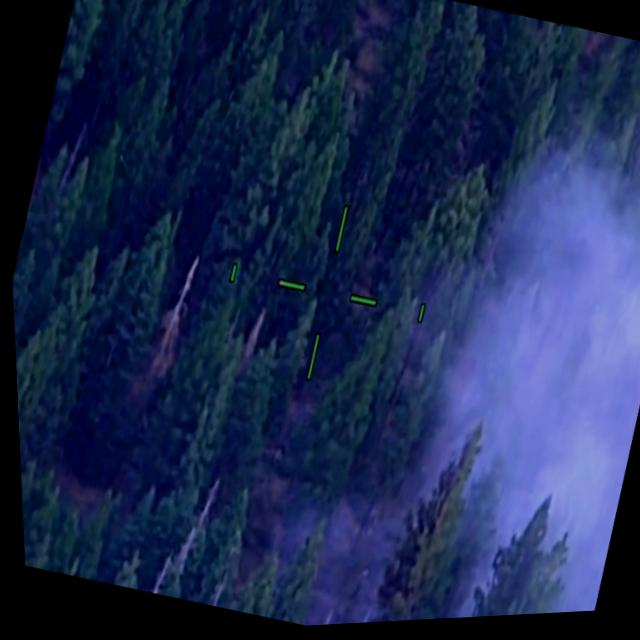smoke: (466, 35, 640, 545)
